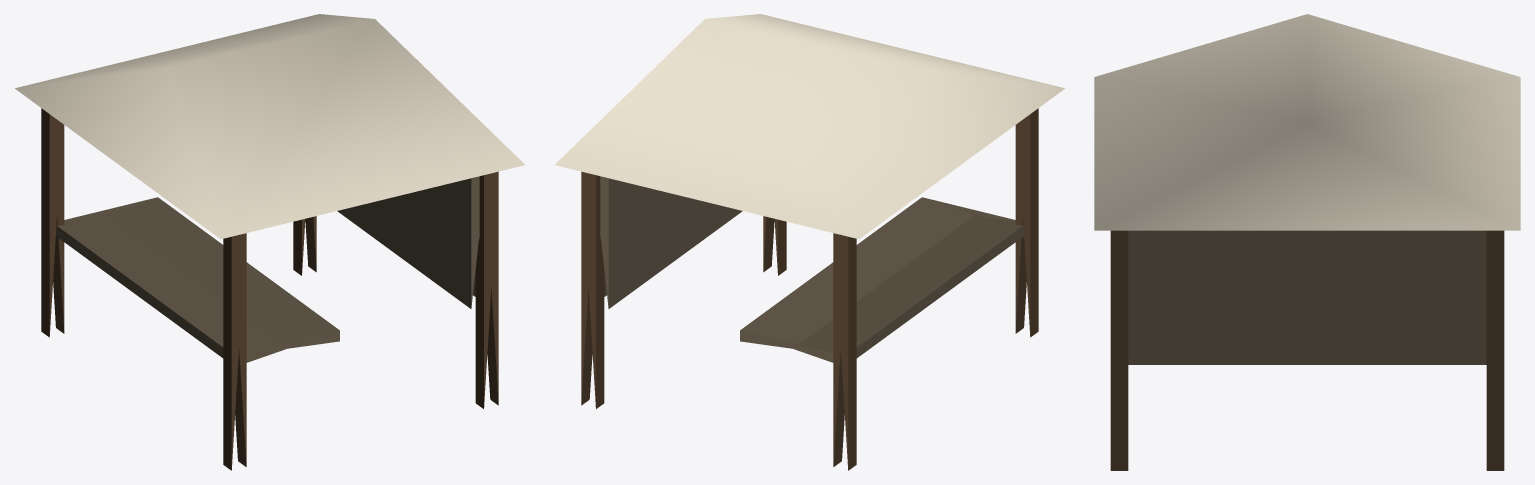
The model's file is fv_market_stall_b.glb.
3 renders of one model, left to right at view 1: azimuth 30°, elevation 25°; view 2: azimuth 150°, elevation 25°; view 3: azimuth 270°, elevation 25°, orthographic. The views are drawn at different scales.
Visible parts, largest first — view 1: fv_market_stall_b_canopy.001, fv_market_stall_b_table.001, fv_market_stall_b_backwall.001, fv_market_stall_b_post1.5-1.001, fv_market_stall_b_post1.51.001, fv_market_stall_b_post-1.5-1.001, fv_market_stall_b_post-1.51.001; view 2: fv_market_stall_b_canopy.001, fv_market_stall_b_table.001, fv_market_stall_b_backwall.001, fv_market_stall_b_post-1.5-1.001, fv_market_stall_b_post-1.51.001, fv_market_stall_b_post1.5-1.001, fv_market_stall_b_post1.51.001; view 3: fv_market_stall_b_canopy.001, fv_market_stall_b_backwall.001, fv_market_stall_b_post1.51.001, fv_market_stall_b_post-1.51.001.
Boxes of the visible parts, x1,y1,x2,y2 form: fv_market_stall_b_canopy.001: (15,14,524,239); fv_market_stall_b_table.001: (56,197,339,362); fv_market_stall_b_backwall.001: (337,176,479,308); fv_market_stall_b_post1.5-1.001: (223,233,246,470); fv_market_stall_b_post1.51.001: (475,171,498,408); fv_market_stall_b_post-1.5-1.001: (41,108,64,337); fv_market_stall_b_post-1.51.001: (293,216,316,275); fv_market_stall_b_canopy.001: (555,14,1064,239); fv_market_stall_b_table.001: (740,197,1023,362); fv_market_stall_b_backwall.001: (600,176,742,308); fv_market_stall_b_post-1.5-1.001: (833,233,856,470); fv_market_stall_b_post-1.51.001: (581,171,604,408); fv_market_stall_b_post1.5-1.001: (1015,108,1038,337); fv_market_stall_b_post1.51.001: (763,216,786,275); fv_market_stall_b_canopy.001: (1094,14,1520,230); fv_market_stall_b_backwall.001: (1128,230,1486,364); fv_market_stall_b_post1.51.001: (1110,230,1128,470); fv_market_stall_b_post-1.51.001: (1486,230,1504,470).
Bounding box in the file's own units: 2.9 × 2.96 × 3.4.
